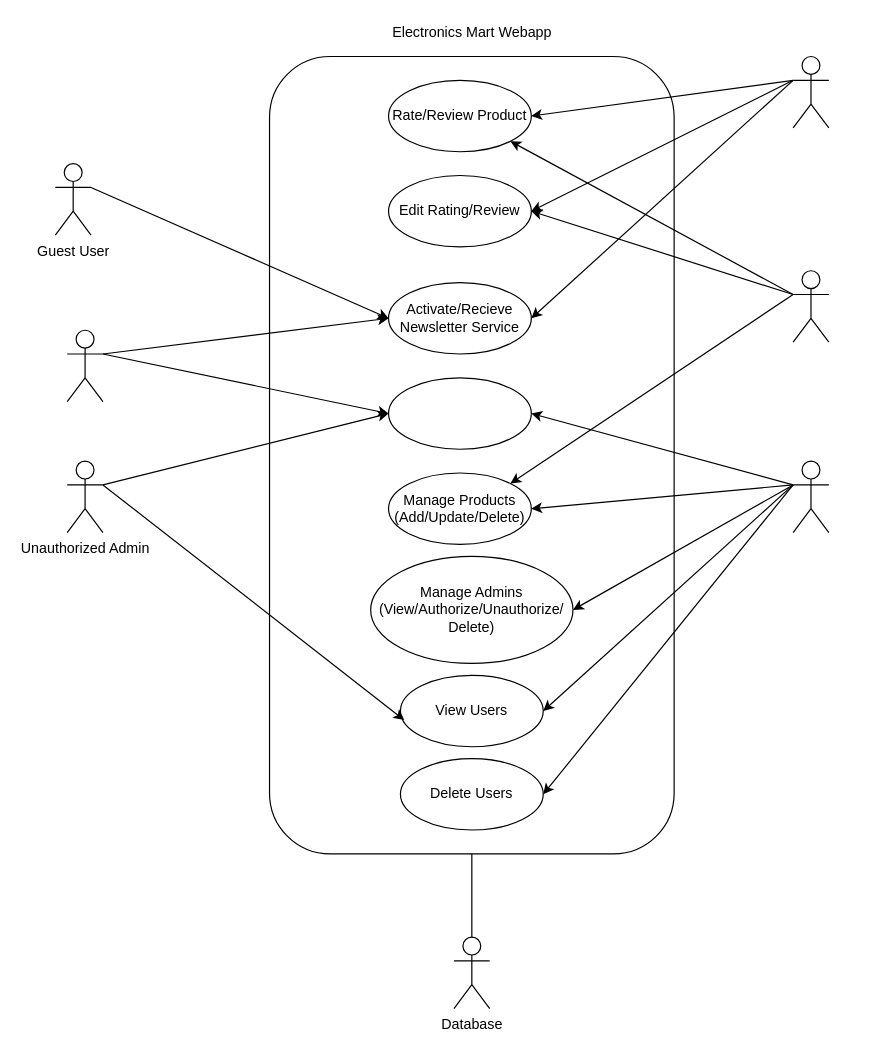
This 887x1053 diagram has some shape labels left out. Here are the shapes that lost their labels. From the top down, the centre of each, then its label:
At point 810,91: "Registered User".
At point 810,306: "Product".
At point 84,365: "Newsletter".
At point 459,413: "Send/View Newsletters".
At point 810,496: "Authorized Admin".
